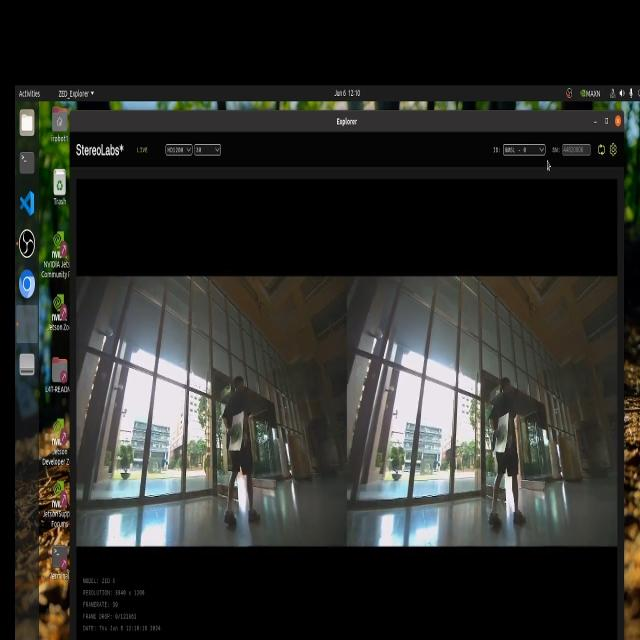green: (230, 414, 245, 452), (494, 418, 511, 449)
